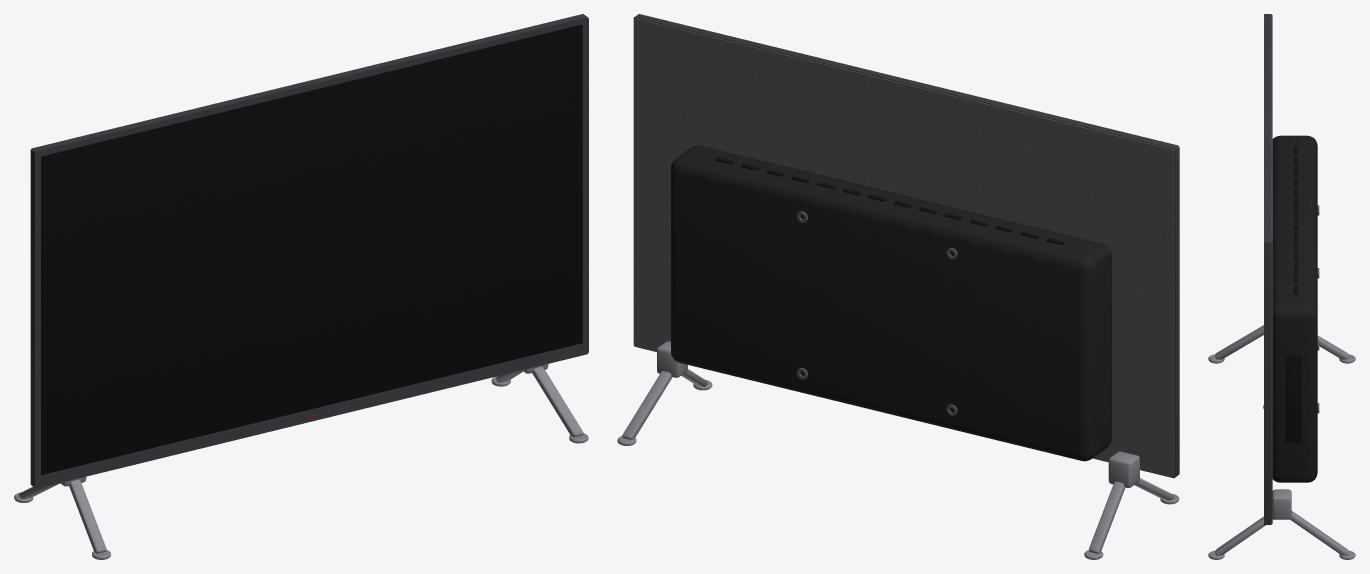
The picture shows the model from 3 angles, left to right: view 1: azimuth 30°, elevation 25°; view 2: azimuth 150°, elevation 25°; view 3: azimuth 270°, elevation 25°; orthographic projection. The views are drawn at different scales.
Visible parts, largest first — view 1: Screen, Bezel frame, Feet; view 2: Rear housing, VESA inserts, Bezel frame, Feet, Vents and connector panel; view 3: Rear housing, Bezel frame, Feet, Vents and connector panel, VESA inserts.
Part boxes in pixels (x1,y1,x2,y2): Screen: (41,24,582,475); Bezel frame: (30,14,588,488); Feet: (14,364,588,559); Rear housing: (671,145,1111,461); VESA inserts: (633,18,1174,477); Bezel frame: (633,14,1179,478); Feet: (617,341,1179,559); Vents and connector panel: (715,157,1064,244); Rear housing: (1272,135,1317,482); Bezel frame: (1264,14,1271,524); Feet: (1208,325,1355,559); Vents and connector panel: (1285,147,1301,442); VESA inserts: (1271,15,1319,523).
Size of the model in its own units: 0.7244 by 0.4915 by 0.198.
Materials: 7 (7 with a texture image).
